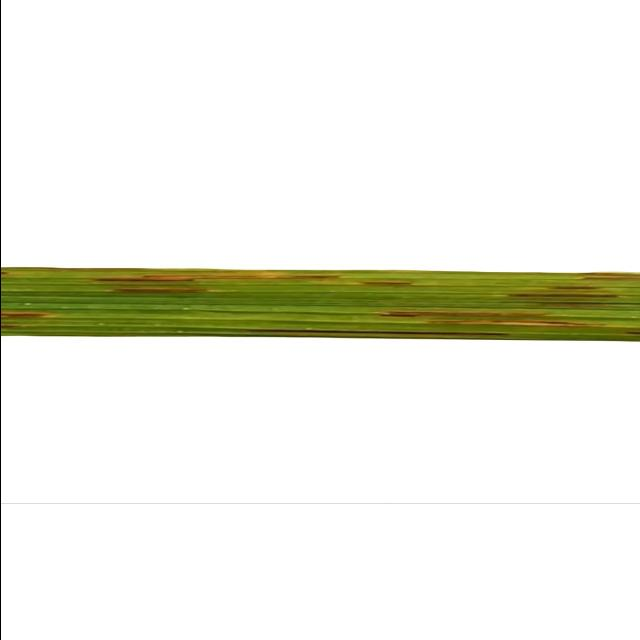Narrow brown: (0, 236, 640, 459)
